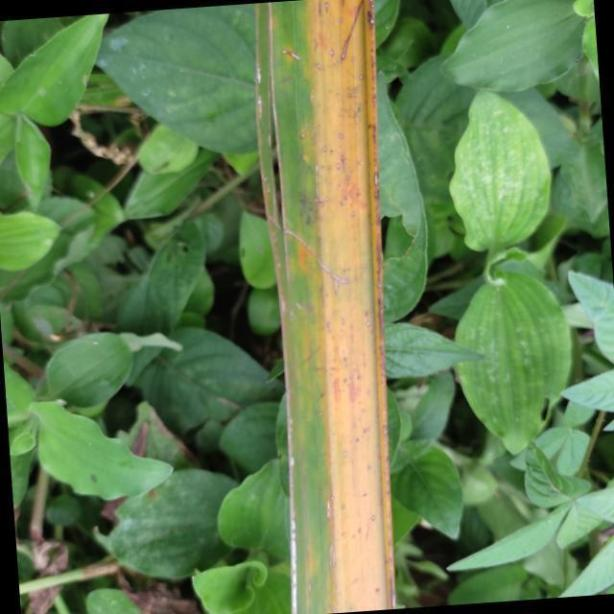Megnesium: (251, 0, 395, 614)
